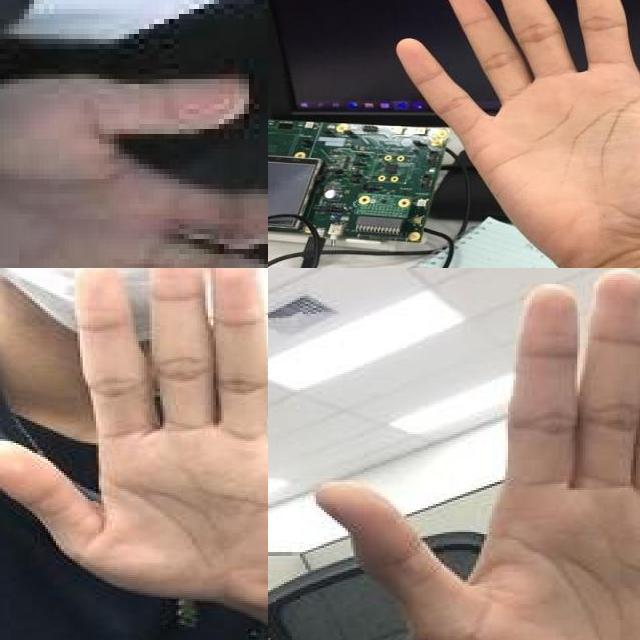hand: (300, 268, 640, 640), (0, 268, 268, 611), (388, 0, 640, 263), (0, 69, 268, 268)
